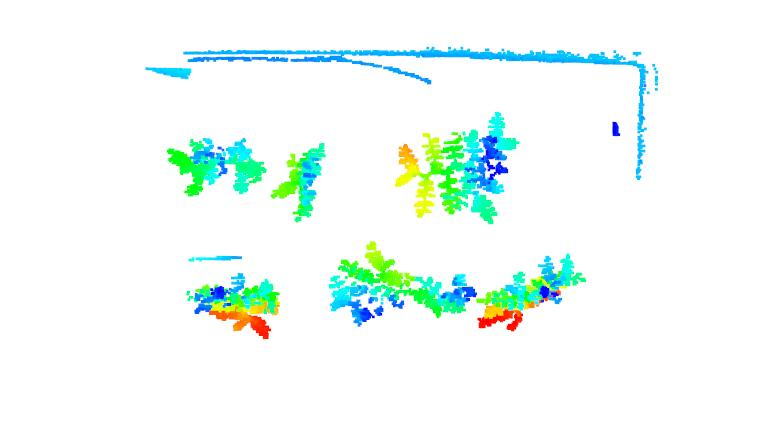chickpea: (395, 112, 517, 221), (476, 258, 591, 332), (326, 243, 413, 321), (167, 135, 266, 197), (190, 277, 283, 338), (269, 140, 331, 220), (416, 269, 479, 323)
